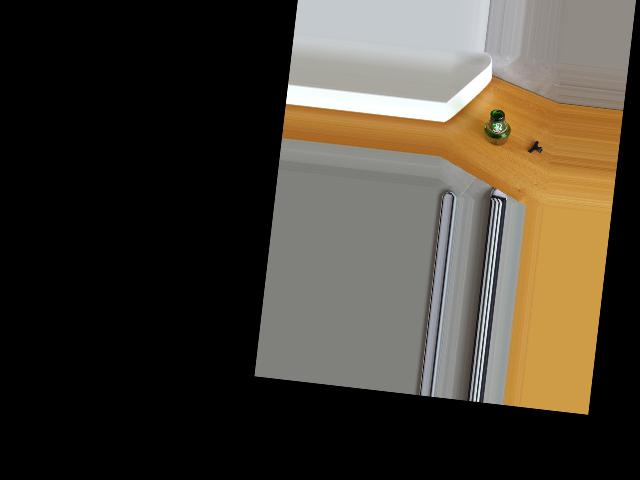beer: (481, 108, 512, 147)
